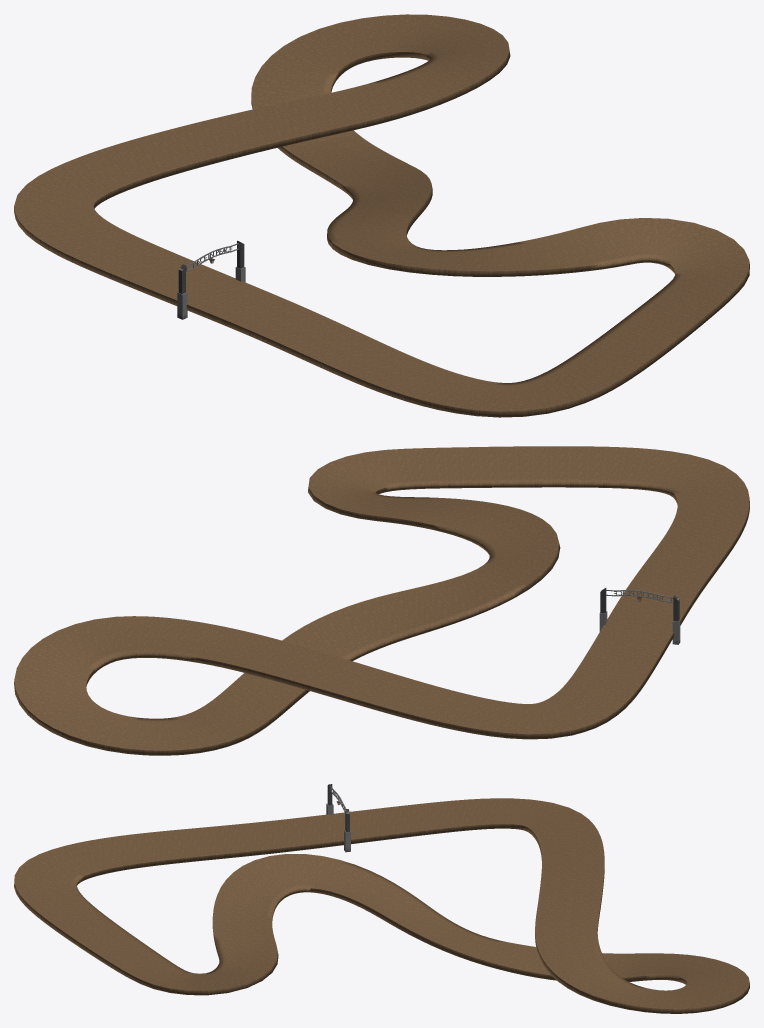
File: Envi2.fbx
The picture shows the model from 3 angles, top to bottom: view 1: azimuth 30°, elevation 25°; view 2: azimuth 150°, elevation 25°; view 3: azimuth 270°, elevation 25°; orthographic projection. The views are drawn at different scales.
Parts seen in each view (by area): view 1: Plane.004, Cube.001; view 2: Plane.004, Cube.001; view 3: Plane.004, Cube.001.
Part boxes in pixels (x1,y1,x2,y2): Plane.004: [14, 14, 749, 417]; Cube.001: [177, 240, 245, 319]; Plane.004: [14, 446, 749, 755]; Cube.001: [599, 588, 680, 644]; Plane.004: [14, 798, 749, 1013]; Cube.001: [326, 784, 350, 852].
Bounding box in the file's own units: 28839 × 4333 × 42223.
